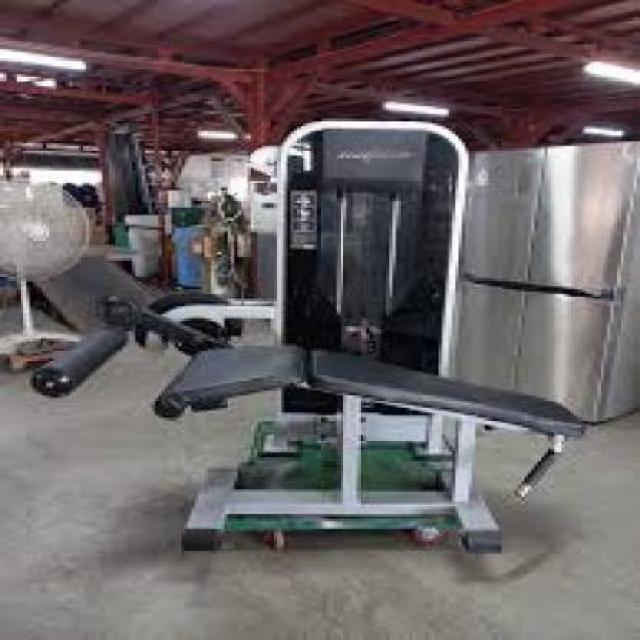reg curl machine: (32, 123, 592, 554)
